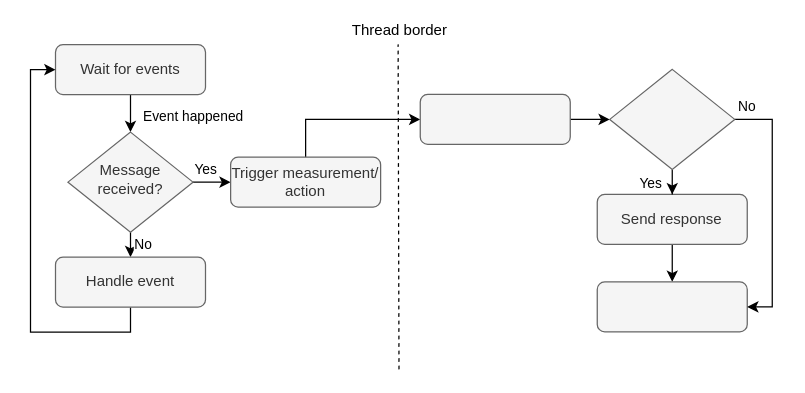
This 805x393 diagram has some shape labels left out. Here are the shapes that lost their labels. From the top down, the centre of each, then its label:
At pixel 494 118: "Perform measurement/ action".
At pixel 671 118: "Response requested?".
At pixel 671 306: "Enter joinable state".
